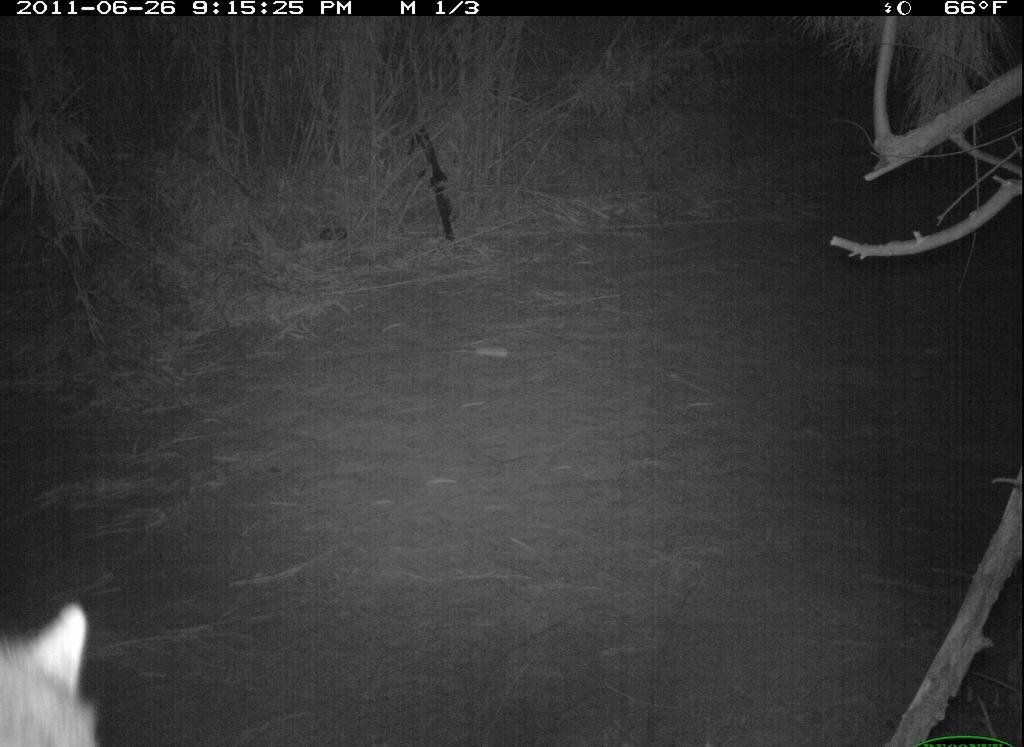raccoon: (2, 561, 125, 744)
